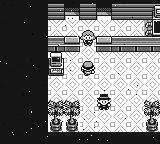leer: (48, 52, 65, 77)
main: (80, 61, 95, 76)
no-caminable: (1, 0, 160, 143), (47, 101, 80, 132), (112, 37, 160, 51), (111, 3, 144, 19), (144, 4, 160, 36), (144, 101, 159, 131), (47, 3, 64, 19), (80, 4, 96, 19), (47, 37, 64, 51), (64, 37, 80, 51), (97, 37, 111, 52)
npc: (96, 94, 111, 109), (81, 31, 95, 46)
puerta: (97, 4, 112, 20), (64, 4, 79, 20)
